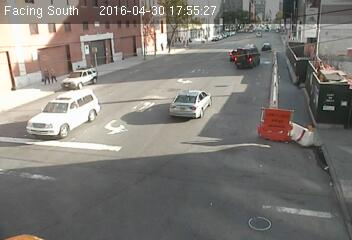neg: (159, 81, 178, 106), (249, 45, 261, 61), (197, 62, 208, 78)
pos: (44, 63, 58, 83), (37, 66, 50, 83)
